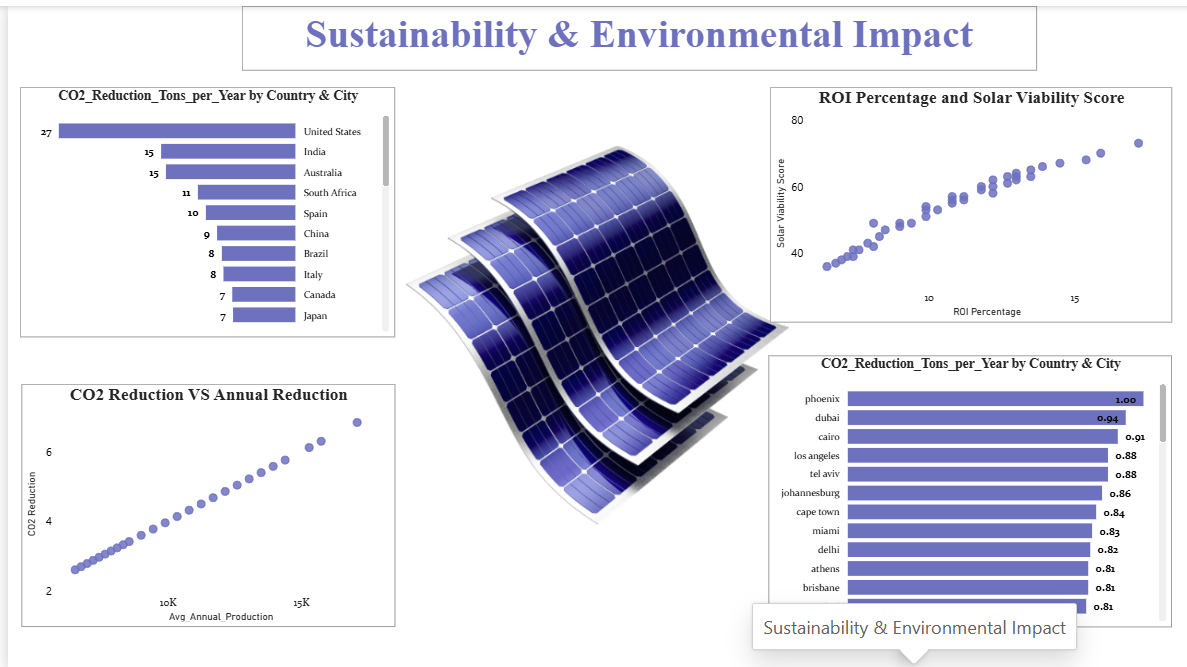

This screenshot's page, from the dashboard's own definition file:
{"tool":"powerbi","page":{"name":"Sustainability & Environmental Impact","canvas":[1280,720],"ordinal":2},"visuals":[{"type":"textbox","box":[253.7,0,862.1,69.9],"z":0},{"type":"barChart","title":"CO2_Reduction_Tons_per_Year by Country & City","fields":{"Y":["Sum(solar_energy_worldwide.CO2_Reduction_Tons_per_Year)"],"Category":["solar_energy_worldwide.Country","solar_energy_worldwide.City"]},"box":[13,87.8,406.6,271.6],"z":1000},{"type":"scatterChart","fields":{"X":["solar_energy_worldwide.ROI_Percentage"],"Y":["solar_energy_worldwide.Solar_Viability_Score"]},"box":[826.3,87.8,435.9,255.4],"z":1001},{"type":"scatterChart","title":"CO2 Reduction VS Annual Reduction","fields":{"X":["solar_energy_worldwide.Avg_Annual_Production_kWh"],"Y":["solar_energy_worldwide.CO2_Reduction_Tons_per_Year"]},"box":[14.6,409.9,405,263.5],"z":1002},{"type":"barChart","title":"CO2_Reduction_Tons_per_Year by Country & City","fields":{"Category":["solar_energy_worldwide.City"],"Y":["Measures Table.Sustainability Index"]},"box":[824.7,379,437.5,294.4],"z":1003}]}

Visuals, with their boxes in screenshot pixels (x1, y1, x2, y2), scaled from the page's 1280x720 canvas onto the 1187x667 screenshot:
textbox: <region>235, 0, 1035, 65</region>
"CO2_Reduction_Tons_per_Year by Country & City" barChart: <region>12, 81, 389, 333</region>
scatterChart - solar_energy_worldwide.ROI_Percentage x solar_energy_worldwide.Solar_Viability_Score: <region>766, 81, 1170, 318</region>
"CO2 Reduction VS Annual Reduction" scatterChart: <region>14, 380, 389, 624</region>
"CO2_Reduction_Tons_per_Year by Country & City" barChart: <region>765, 351, 1170, 624</region>
